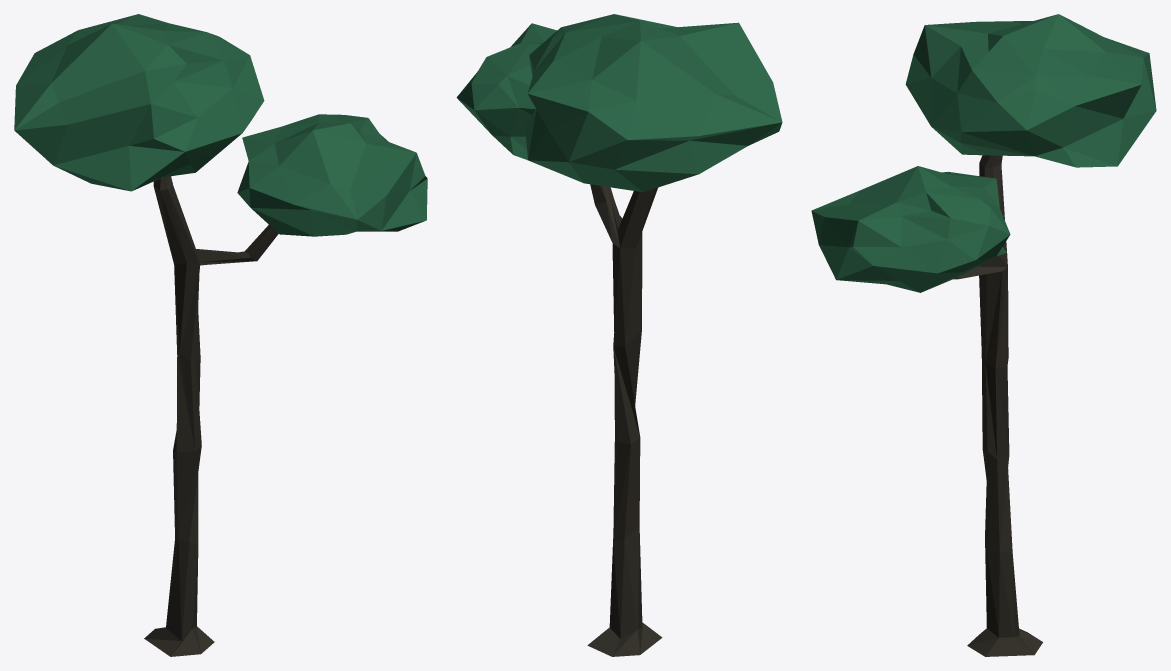
Rendered from KOKS_004.FBX.
The picture shows the model from 3 angles, left to right: view 1: azimuth 30°, elevation 25°; view 2: azimuth 150°, elevation 25°; view 3: azimuth 270°, elevation 25°; orthographic projection. The views are drawn at different scales.
Parts seen in each view (by area): view 1: KOKS_004; view 2: KOKS_004; view 3: KOKS_004.
Part boxes in pixels (bbox=[...]): KOKS_004: bbox=[14, 14, 427, 656]; KOKS_004: bbox=[456, 14, 782, 656]; KOKS_004: bbox=[811, 14, 1156, 656].
Size of the model in its own units: 6464 by 10923 by 5587.
Materials: 1 (1 with a texture image).
